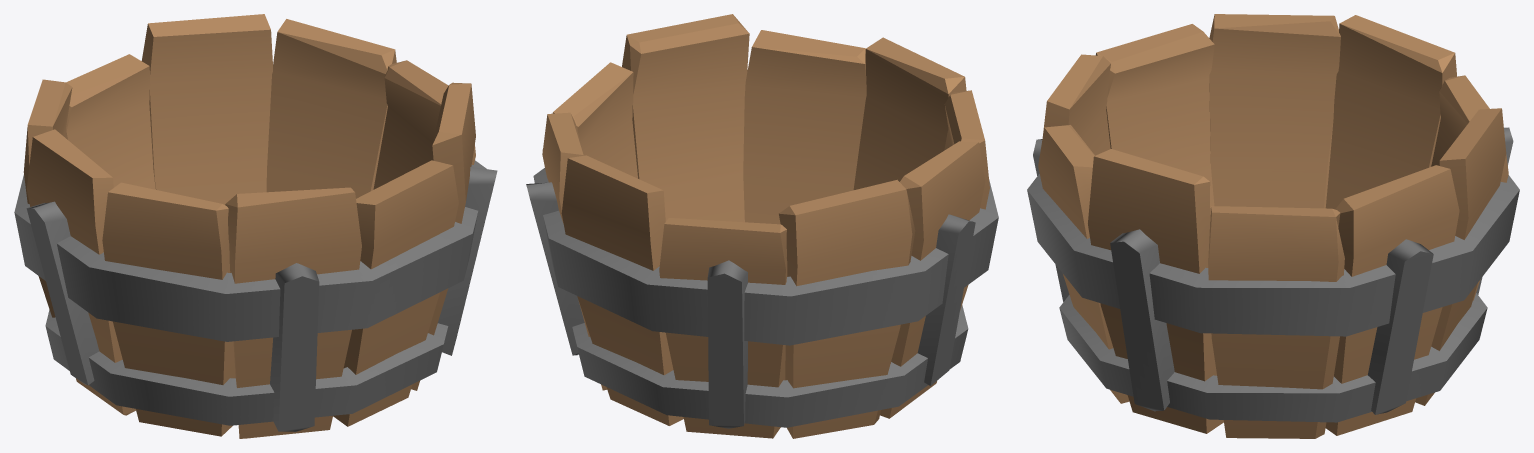
Rendered from Barrel_A.fbx.
3 views of the same model, side by side, from view 1: azimuth 30°, elevation 25°; view 2: azimuth 150°, elevation 25°; view 3: azimuth 270°, elevation 25° (orthographic). The views are drawn at different scales.
Visible parts, largest first — view 1: Barrel_A; view 2: Barrel_A; view 3: Barrel_A.
Part boxes in pixels (x1,y1,x2,y2): Barrel_A: (14,14,497,438); Barrel_A: (526,14,998,438); Barrel_A: (1027,14,1519,438).
Size of the model in its own units: 65.35 by 40.45 by 66.69.
